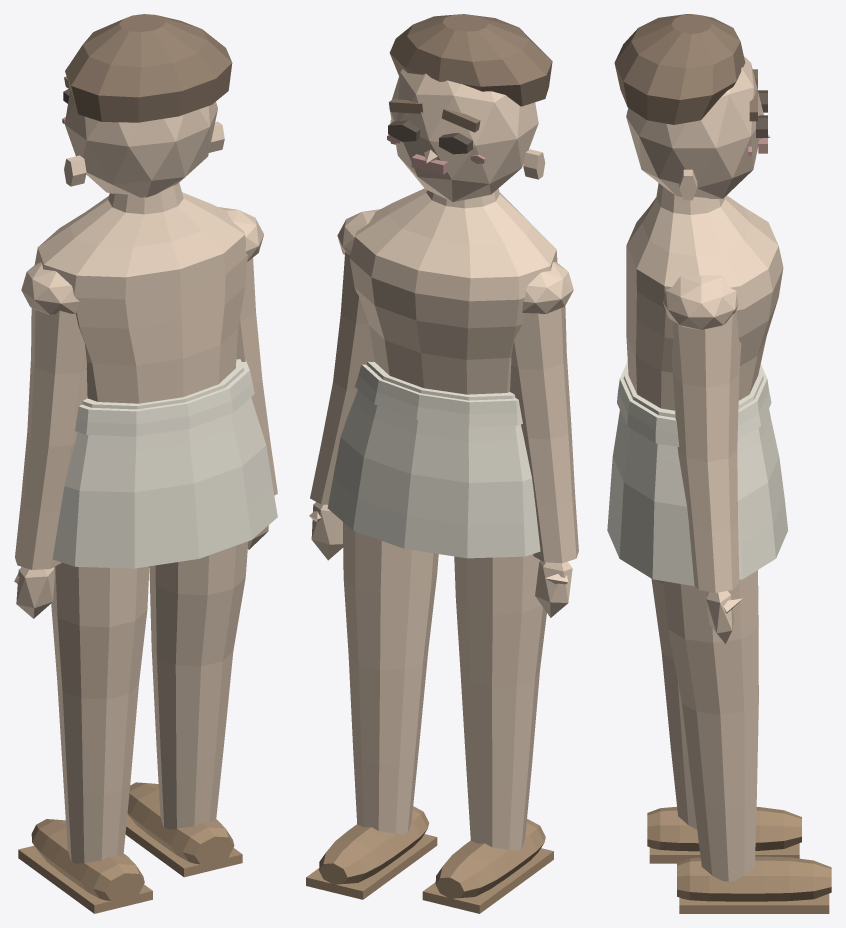
The model's file is 19-NPCs_npc_base.glb.
3 renders of one model, left to right at view 1: azimuth 30°, elevation 25°; view 2: azimuth 150°, elevation 25°; view 3: azimuth 270°, elevation 25°, orthographic. The views are drawn at different scales.
Parts seen in each view (by area): view 1: SM_NPC_M_NPC_Piel, SM_NPC_M_NPC_Ropa_NPC_Botas, SM_NPC_M_NPC_Cabello, SM_NPC_M_NPC_Botas; view 2: SM_NPC_M_NPC_Piel, SM_NPC_M_NPC_Ropa_NPC_Botas, SM_NPC_M_NPC_Botas, SM_NPC_M_NPC_Cabello, SM_NPC_M_NPC_Ojos, SM_NPC_M_NPC_Boca; view 3: SM_NPC_M_NPC_Piel, SM_NPC_M_NPC_Ropa_NPC_Botas, SM_NPC_M_NPC_Botas, SM_NPC_M_NPC_Cabello.
Boxes of the visible parts, bbox=[...] form: SM_NPC_M_NPC_Piel: bbox=[14, 89, 277, 863]; SM_NPC_M_NPC_Ropa_NPC_Botas: bbox=[52, 359, 277, 568]; SM_NPC_M_NPC_Cabello: bbox=[64, 14, 232, 122]; SM_NPC_M_NPC_Botas: bbox=[18, 782, 242, 913]; SM_NPC_M_NPC_Piel: bbox=[309, 69, 578, 850]; SM_NPC_M_NPC_Ropa_NPC_Botas: bbox=[327, 361, 540, 558]; SM_NPC_M_NPC_Botas: bbox=[306, 806, 553, 913]; SM_NPC_M_NPC_Cabello: bbox=[388, 14, 552, 132]; SM_NPC_M_NPC_Ojos: bbox=[388, 120, 472, 154]; SM_NPC_M_NPC_Boca: bbox=[387, 135, 485, 174]; SM_NPC_M_NPC_Piel: bbox=[626, 56, 783, 881]; SM_NPC_M_NPC_Ropa_NPC_Botas: bbox=[607, 361, 788, 586]; SM_NPC_M_NPC_Botas: bbox=[647, 806, 831, 913]; SM_NPC_M_NPC_Cabello: bbox=[614, 14, 757, 124].
Size of the model in its own units: 0.506 by 1.57 by 0.377.
